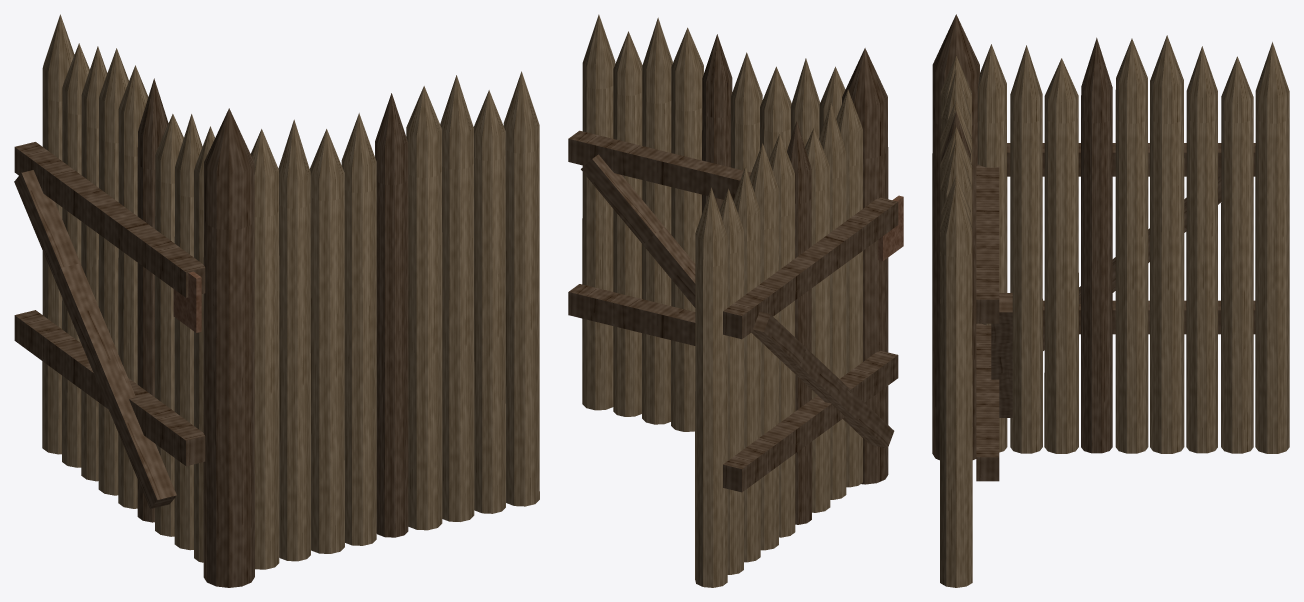
The model's file is PZ_Palisade_Corner_90_2m.glb.
3 views of the same model, side by side, from view 1: azimuth 30°, elevation 25°; view 2: azimuth 150°, elevation 25°; view 3: azimuth 270°, elevation 25° (orthographic). The views are drawn at different scales.
Parts seen in each view (by area): view 1: CORNER__CORNER_Central_Heavy_Post, CORNER__CORNER_X_Log_06, CORNER__CORNER_X_Log_09, CORNER__CORNER_X_Log_03, CORNER__CORNER_X_Log_05, CORNER__CORNER_X_Log_07, CORNER__CORNER_X_Log_04, CORNER__CORNER_X_Log_02, CORNER__CORNER_X_Log_08, CORNER__CORNER_X_Log_01, CORNER__CORNER_Y_DiagonalBrace, CORNER__CORNER_Y_TieRail_2 (+11 smaller); view 2: CORNER__CORNER_Y_Log_09, CORNER__CORNER_X_Log_09, CORNER__CORNER_Central_Heavy_Post, CORNER__CORNER_X_Log_07, CORNER__CORNER_X_Log_06, CORNER__CORNER_X_Log_08, CORNER__CORNER_Y_TieRail_2, CORNER__CORNER_Y_TieRail_1, CORNER__CORNER_Y_Log_06, CORNER__CORNER_X_TieRail_2, CORNER__CORNER_Y_Log_08, CORNER__CORNER_Y_Log_07 (+14 smaller); view 3: CORNER__CORNER_Y_Log_06, CORNER__CORNER_Y_Log_09, CORNER__CORNER_Y_Log_05, CORNER__CORNER_Y_Log_03, CORNER__CORNER_X_Log_09, CORNER__CORNER_Y_Log_04, CORNER__CORNER_Y_Log_08, CORNER__CORNER_Y_Log_02, CORNER__CORNER_Y_Log_07, CORNER__CORNER_Central_Heavy_Post, CORNER__CORNER_Y_Log_01, CORNER__CORNER_X_TieRail_2 (+10 smaller).
Part boxes in pixels (box(x1,y1,x2,y2)): CORNER__CORNER_Central_Heavy_Post: box(203, 108, 254, 587); CORNER__CORNER_X_Log_06: box(406, 86, 442, 530); CORNER__CORNER_X_Log_09: box(503, 71, 539, 506); CORNER__CORNER_X_Log_03: box(310, 129, 344, 553); CORNER__CORNER_X_Log_05: box(375, 93, 408, 537); CORNER__CORNER_X_Log_07: box(440, 75, 474, 521); CORNER__CORNER_X_Log_04: box(341, 113, 376, 545); CORNER__CORNER_X_Log_02: box(278, 119, 310, 561); CORNER__CORNER_X_Log_08: box(473, 90, 505, 513); CORNER__CORNER_X_Log_01: box(251, 129, 279, 569); CORNER__CORNER_Y_DiagonalBrace: box(14, 170, 176, 508); CORNER__CORNER_Y_TieRail_2: box(14, 142, 205, 297); CORNER__CORNER_Y_Log_09: box(695, 187, 727, 587); CORNER__CORNER_X_Log_09: box(582, 14, 615, 410); CORNER__CORNER_Central_Heavy_Post: box(842, 48, 888, 484); CORNER__CORNER_X_Log_07: box(642, 17, 672, 424); CORNER__CORNER_X_Log_06: box(671, 27, 703, 431); CORNER__CORNER_X_Log_08: box(613, 31, 642, 416); CORNER__CORNER_Y_TieRail_2: box(723, 197, 898, 339); CORNER__CORNER_Y_TieRail_1: box(723, 351, 898, 492); CORNER__CORNER_Y_Log_06: box(749, 143, 778, 550); CORNER__CORNER_X_TieRail_2: box(568, 130, 750, 200); CORNER__CORNER_Y_Log_08: box(719, 188, 743, 574); CORNER__CORNER_Y_Log_07: box(733, 166, 760, 562); CORNER__CORNER_Y_Log_06: box(1150, 35, 1184, 453); CORNER__CORNER_Y_Log_09: box(1255, 42, 1289, 453); CORNER__CORNER_Y_Log_05: box(1115, 38, 1148, 453); CORNER__CORNER_Y_Log_03: box(1044, 58, 1078, 453); CORNER__CORNER_X_Log_09: box(940, 180, 972, 587); CORNER__CORNER_Y_Log_04: box(1081, 37, 1112, 453); CORNER__CORNER_Y_Log_08: box(1221, 56, 1253, 453); CORNER__CORNER_Y_Log_02: box(1010, 45, 1042, 453); CORNER__CORNER_Y_Log_07: box(1186, 46, 1217, 453); CORNER__CORNER_Central_Heavy_Post: box(932, 14, 979, 460); CORNER__CORNER_Y_Log_01: box(978, 44, 1007, 452); CORNER__CORNER_X_TieRail_2: box(976, 164, 999, 323).
Size of the model in its own units: 2.22 by 2.76 by 2.04.
3 materials, 3 textured.
